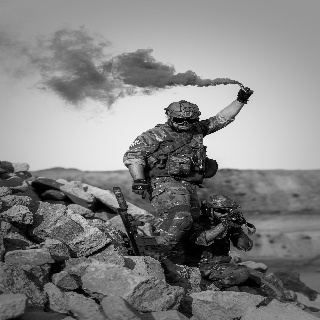rifle: (112, 184, 161, 258), (221, 206, 256, 242)
